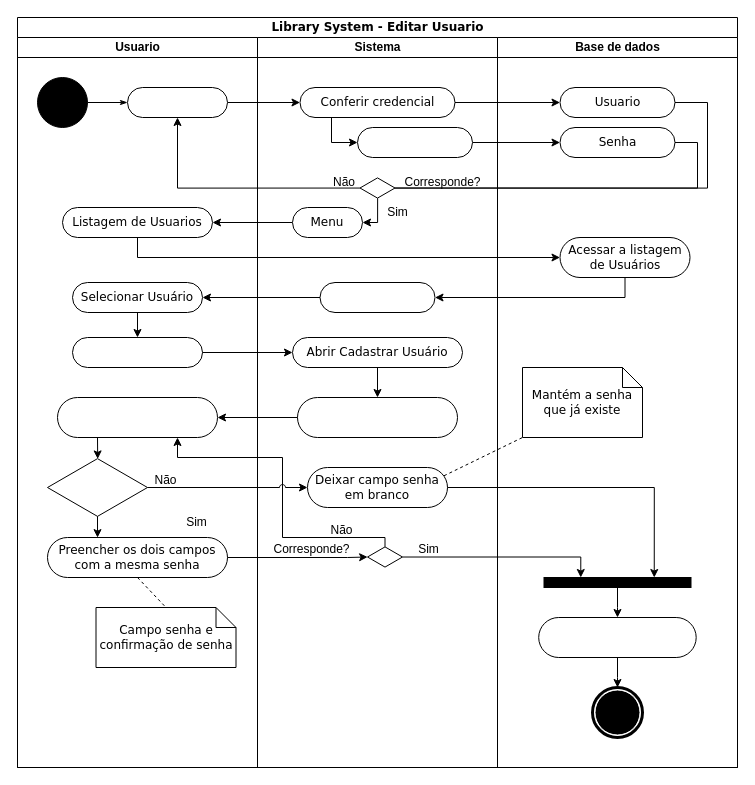
Some shapes in this 755 by 785 pixel diagram are drawn without their labels. The shapes that lost their labels are listed below. From the top down, each one's centre as x and y in pixels, then its label:
At point 177,102: "Login".
At point 414,142: "Criptografia".
At point 377,297: "Retornar dados".
At point 137,352: "Clicar em Editar".
At point 137,417: "Preencher os dados com as novas informações".
At point 377,417: "Preencher os dados já cadastrados".
At point 97,487: "Nova senha?".
At point 617,637: "Salvar as informações sobre as antigas".
